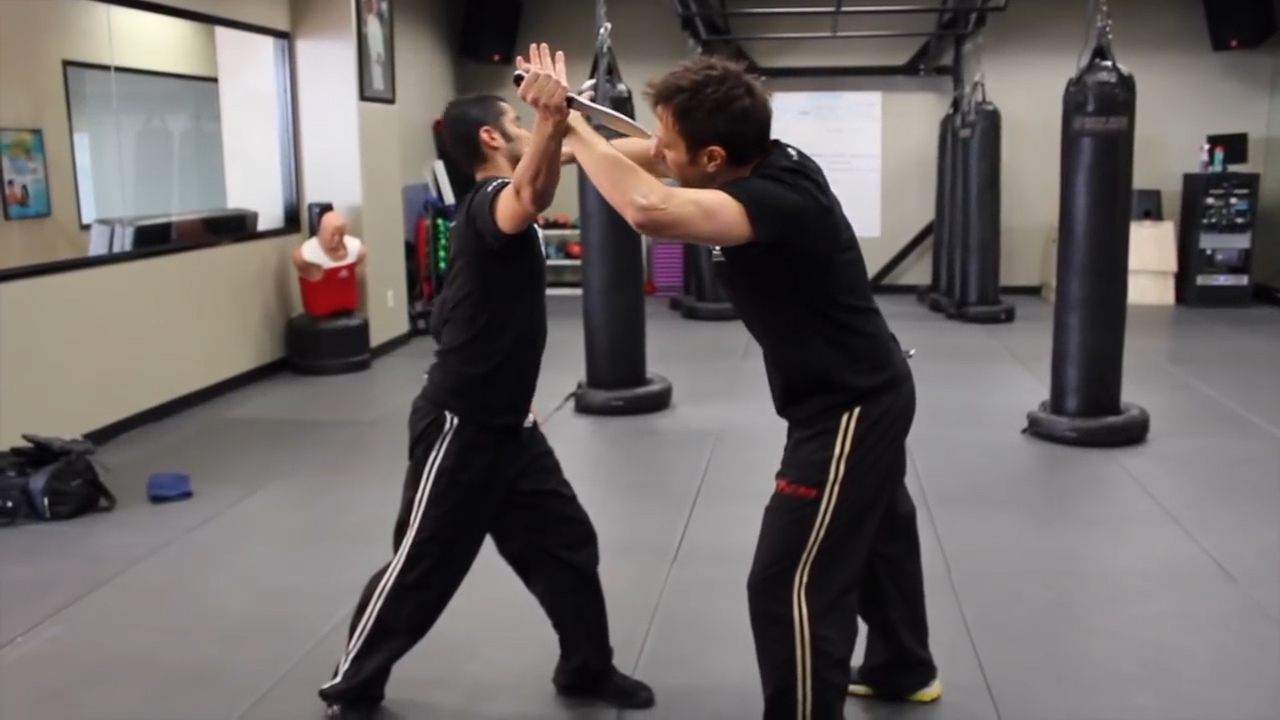knife: (508, 62, 659, 148)
